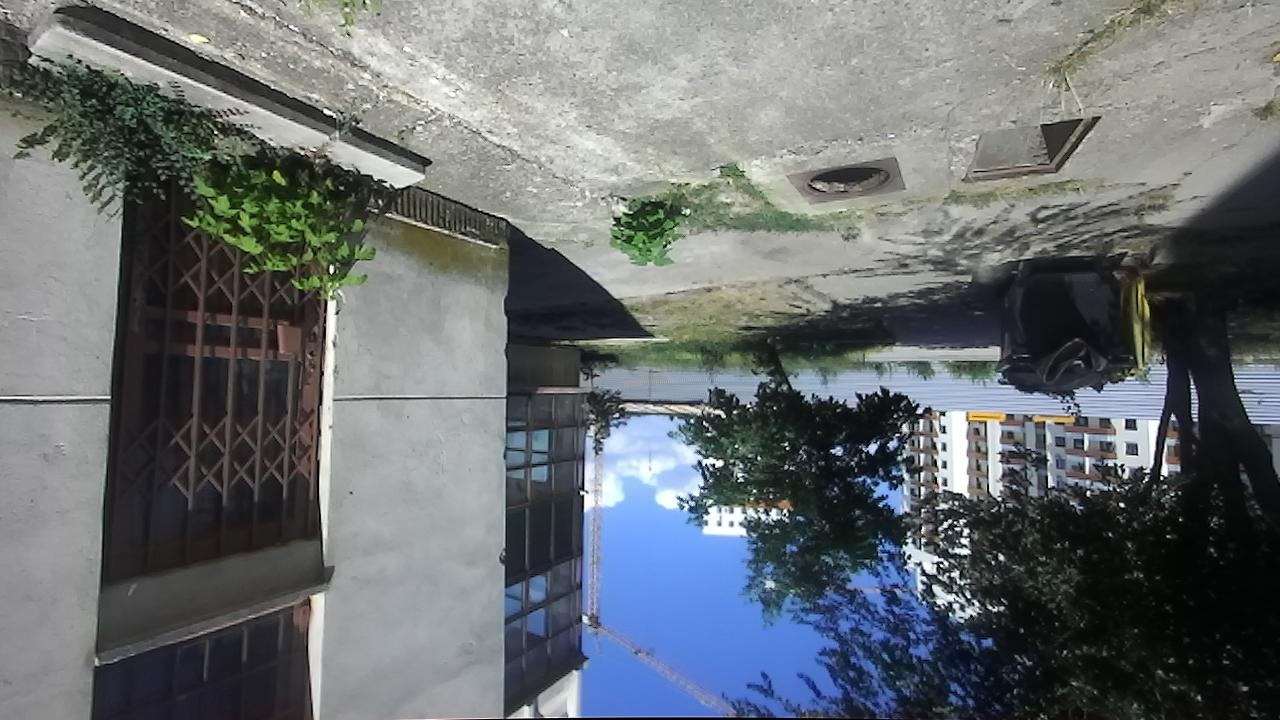drain: (959, 109, 1105, 187), (801, 164, 893, 199)
